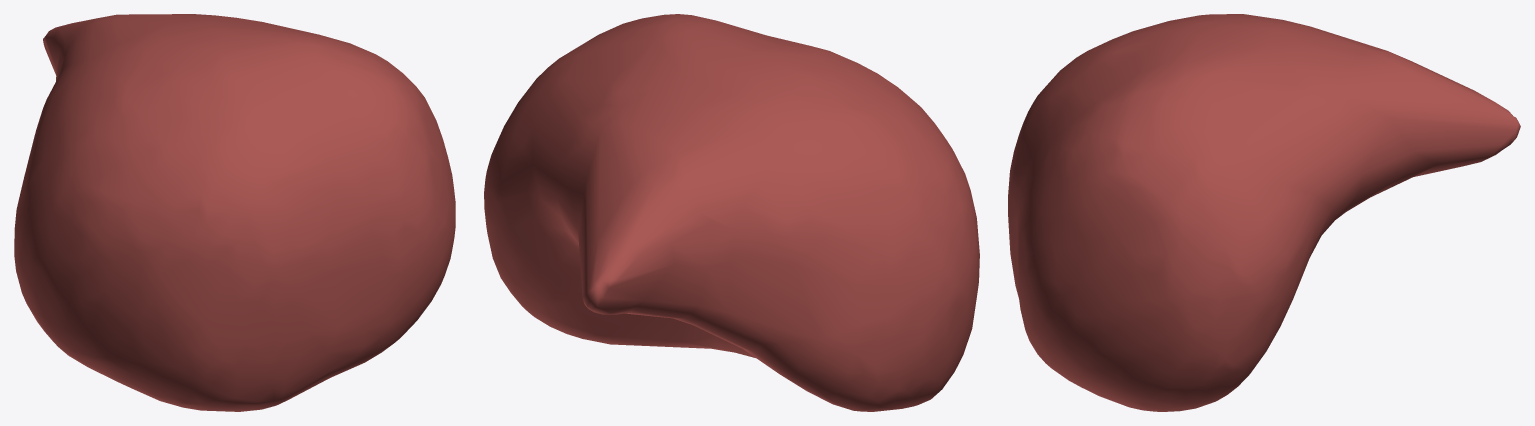
Rendered from FMA72832.glb.
3 renders of one model, left to right at view 1: azimuth 30°, elevation 25°; view 2: azimuth 150°, elevation 25°; view 3: azimuth 270°, elevation 25°, orthographic. The views are drawn at different scales.
Visible parts, largest first — view 1: FMA72832; view 2: FMA72832; view 3: FMA72832.
Boxes of the visible parts, box(x1,y1,x2,y2) form: FMA72832: box(14, 14, 455, 411); FMA72832: box(484, 14, 979, 411); FMA72832: box(1008, 14, 1520, 411).
Size of the model in its own units: 0.0163 by 0.0123 by 0.0175.
